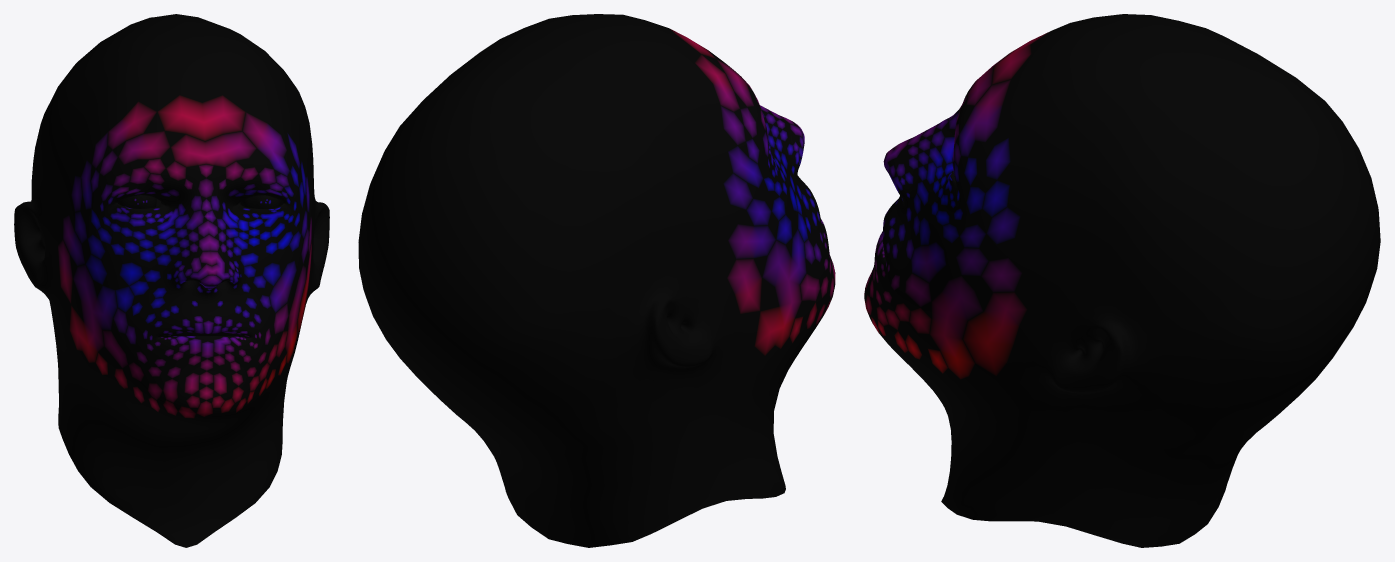
Rendered from colored_forward.obj.
The picture shows the model from 3 angles, left to right: view 1: azimuth 30°, elevation 25°; view 2: azimuth 150°, elevation 25°; view 3: azimuth 270°, elevation 25°; orthographic projection. The views are drawn at different scales.
Size of the model in its own units: 0.9138 by 1.36 by 1.24.
